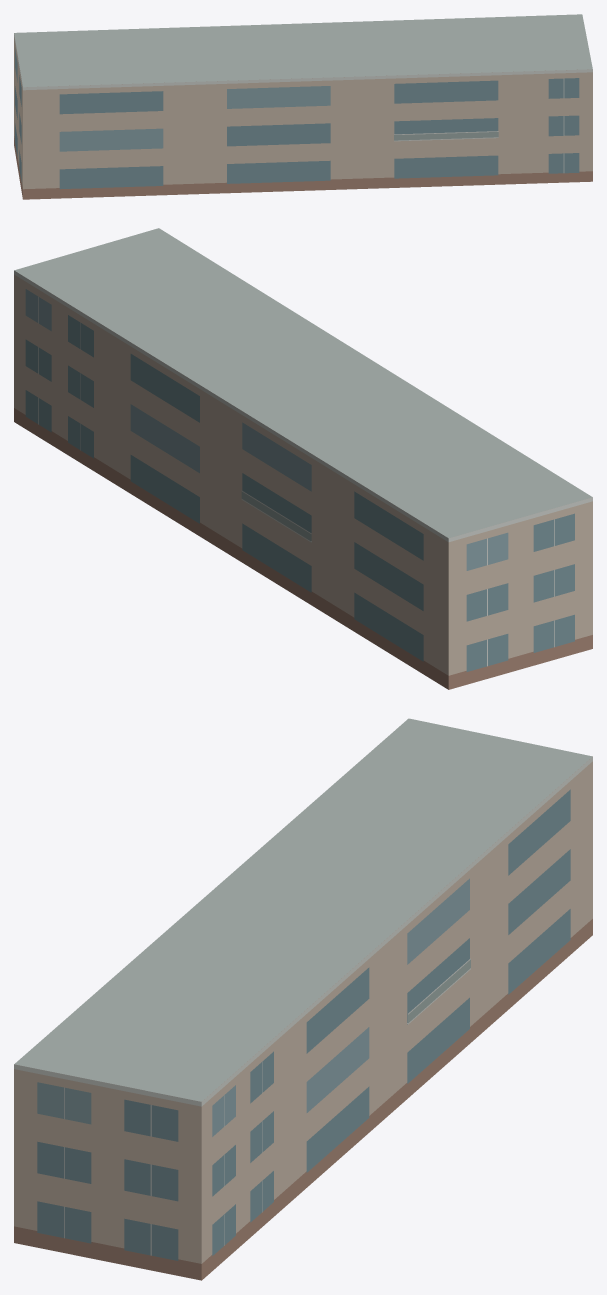
File: survey-upis-32552453.glb
The picture shows the model from 3 angles, top to bottom: view 1: azimuth 30°, elevation 25°; view 2: azimuth 150°, elevation 25°; view 3: azimuth 270°, elevation 25°; orthographic projection. The views are drawn at different scales.
Visible parts, largest first — view 1: survey-upis-32552453.tmp; view 2: survey-upis-32552453.tmp; view 3: survey-upis-32552453.tmp.
Boxes of the visible parts, x1,y1,x2,y2 form: survey-upis-32552453.tmp: [14, 14, 592, 199]; survey-upis-32552453.tmp: [14, 228, 592, 689]; survey-upis-32552453.tmp: [14, 718, 592, 1280].
Bounding box in the file's own units: 42.12 × 9.15 × 26.87.
